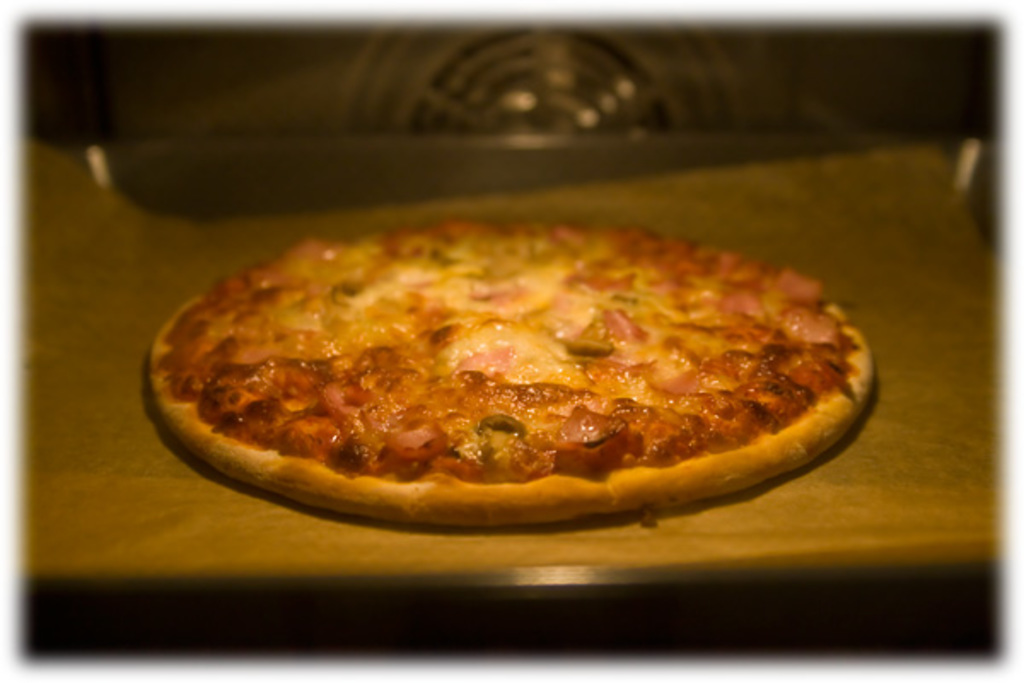Pizza: (133, 189, 897, 531)
